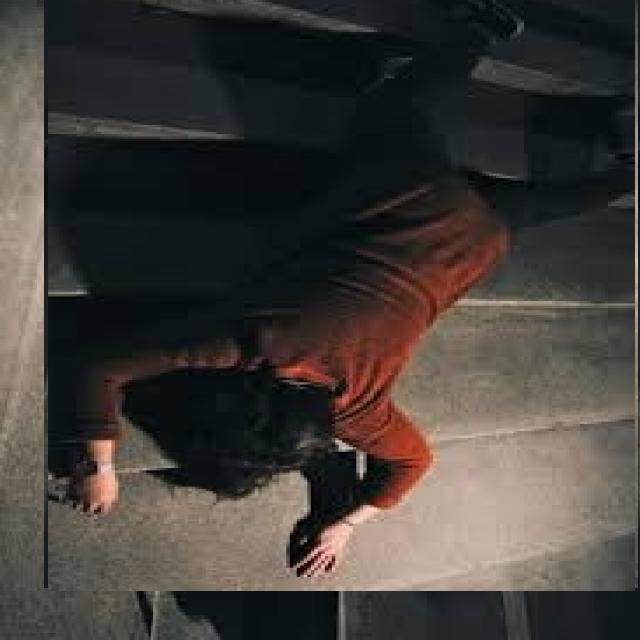Fall: (125, 13, 640, 602)
